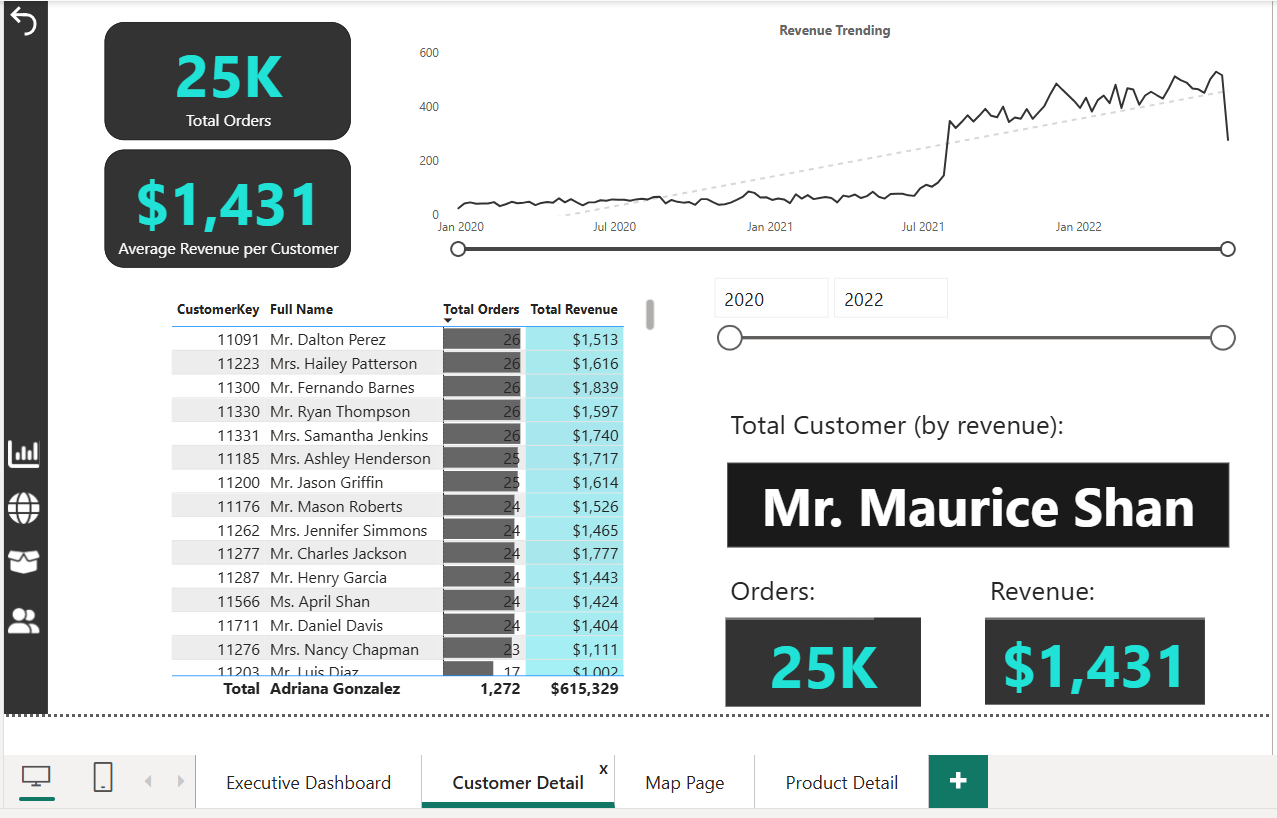

The page's visual inventory and layout, read from the dashboard file:
{"tool":"powerbi","page":{"name":"Customer Detail","canvas":[1280,720],"ordinal":1},"visuals":[{"type":"slicer","fields":{"Values":["Calendar Lookup.Date Hierarchy.Year"]},"box":[703.6,269.1,547.3,109.1],"z":0},{"type":"slicer","fields":{"Values":["Customer Lookup.Full Name"]},"box":[703.5,458.5,556.8,99.6],"z":1000},{"type":"card","fields":{"Values":["Measure Table.Total Orders"]},"box":[729,622.7,197.3,89.7],"z":2000},{"type":"card","fields":{"Values":["Measure Table.Average Revenue per Customer"]},"box":[990.4,622.3,221.8,87.8],"z":3000},{"type":"shape","title":"Left Navbar","box":[0,0,44.3,719.8],"z":4000,"group":"g1"},{"type":"textbox","box":[729,571.5,149.9,53.8],"z":4000},{"type":"actionButton","title":"Map","box":[0,492.6,44.1,39.7],"z":4125,"group":"g1"},{"type":"actionButton","title":"Customer Button","box":[0,605.9,44.1,39.7],"z":4250,"group":"g1"},{"type":"textbox","box":[990.4,571.5,221.8,53.9],"z":5000},{"type":"actionButton","title":"Product","box":[0,547.1,44.1,39.7],"z":5500,"group":"g1"},{"type":"textbox","box":[728.4,402.2,427.1,47.2],"z":6000},{"type":"actionButton","title":"Exec Dashboard","box":[0,438.2,44.1,39.7],"z":6000,"group":"g1"},{"type":"actionButton","title":"Bookmark","box":[0,0,44.1,39.7],"z":6500,"group":"g1"},{"type":"lineChart","title":"Revenue Trending","fields":{"Y":["Measure Table.Total Customers"],"Category":["Calendar Lookup.Date Hierarchy.Year","Calendar Lookup.Date Hierarchy.Start of Month","Calendar Lookup.Date Hierarchy.Start of Week","Calendar Lookup.Date Hierarchy.Date"]},"box":[412.7,20,850.9,241.8],"z":7000},{"type":"card","fields":{"Values":["Measure Table.Total Orders"]},"box":[100.9,20.6,248.5,119.6],"z":8000},{"type":"card","fields":{"Values":["Measure Table.Average Revenue per Customer"]},"box":[100.9,149.5,248.5,119.6],"z":9000},{"type":"tableEx","fields":{"Values":["Customer Lookup.CustomerKey","Min(Customer Lookup.Full Name)","Measure Table.Total Orders","Measure Table.Total Revenue"]},"box":[163.6,294.5,498.2,414.5],"z":10000},{"type":"group","id":"g1","title":"Left Bar","box":[0,0,44.3,719.8],"z":11000}]}

Visuals, with their boxes on the page's 1280x720 design canvas (x1, y1, x2, y2). These are canvas units, not pixel positions in the 1277x818 screenshot, which may show the page scaled, cropped or inside an application window:
slicer - Calendar Lookup.Date Hierarchy.Year: select_region(704, 269, 1251, 378)
slicer - Customer Lookup.Full Name: select_region(704, 458, 1260, 558)
card - Measure Table.Total Orders: select_region(729, 623, 926, 712)
card - Measure Table.Average Revenue per Customer: select_region(990, 622, 1212, 710)
"Left Navbar" shape: select_region(0, 0, 44, 720)
textbox: select_region(729, 572, 879, 625)
"Map" actionButton: select_region(0, 493, 44, 532)
"Customer Button" actionButton: select_region(0, 606, 44, 646)
textbox: select_region(990, 572, 1212, 625)
"Product" actionButton: select_region(0, 547, 44, 587)
textbox: select_region(728, 402, 1156, 449)
"Exec Dashboard" actionButton: select_region(0, 438, 44, 478)
"Bookmark" actionButton: select_region(0, 0, 44, 40)
"Revenue Trending" lineChart: select_region(413, 20, 1264, 262)
card - Measure Table.Total Orders: select_region(101, 21, 349, 140)
card - Measure Table.Average Revenue per Customer: select_region(101, 150, 349, 269)
tableEx - Customer Lookup.CustomerKey x Min(Customer Lookup.Full Name): select_region(164, 294, 662, 709)
"Left Bar" group: select_region(0, 0, 44, 720)
